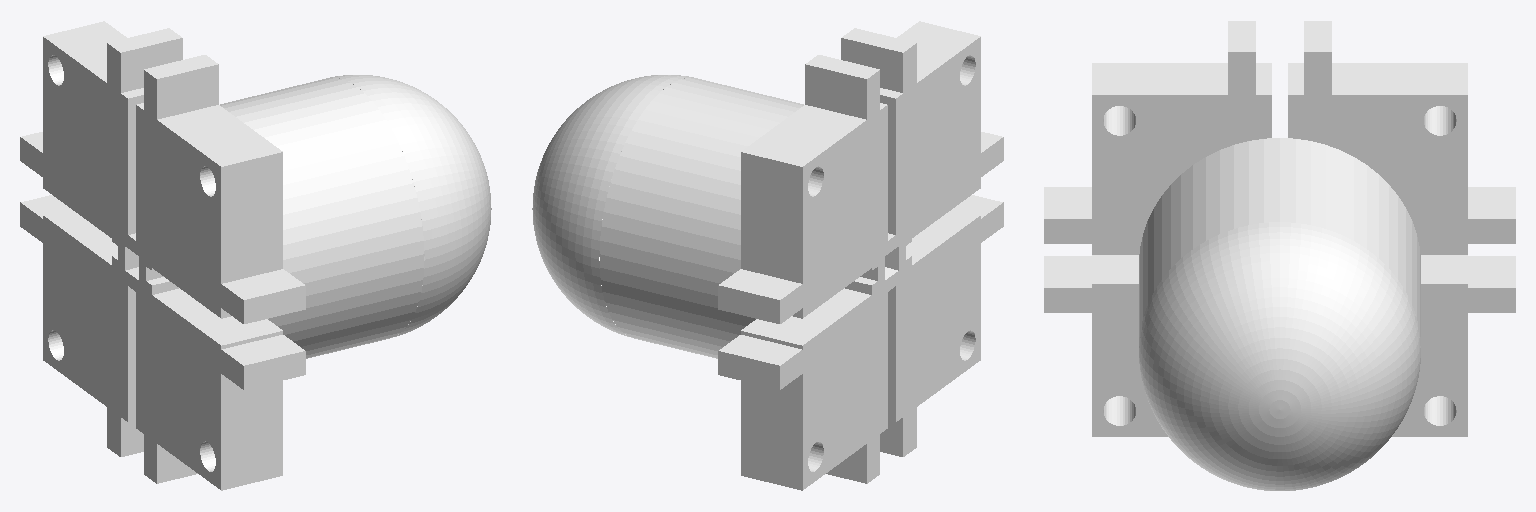
URDF robot description (omnitact):
<?xml version="1.0" ?>
<robot name="omnitact">
  <link concave="yes" name="baseLink">
    <inertial>
      <origin rpy="0 0 0" xyz="0 0 0"/>
       <mass value=".1"/>
       <inertia ixx="1" ixy="0" ixz="0" iyy="1" iyz="0" izz="1"/>
    </inertial>
    <visual>
      <origin rpy="0 0 0" xyz="0 0 0"/>
      <geometry>
				<mesh filename="omnitact_mod_pybullet.STL" scale="1 1 1"/>
      </geometry>
       <material name="white">
        <color rgba="1 1 1 1"/>
      </material>
    </visual>
    <collision concave="yes">
      <origin rpy="0 0 0" xyz="0 0 0"/>
     <geometry>
				<mesh filename="omnitact_mod_pybullet.STL" scale="1 1 1"/>
      </geometry>
    </collision>
  </link>
</robot>

--- Render facts (derived) ---
The picture shows the robot from 3 angles, left to right: view 1: azimuth 30°, elevation 25°; view 2: azimuth 150°, elevation 25°; view 3: azimuth 270°, elevation 25°; orthographic projection.
Robot: omnitact — 1 links, 0 joints (none); root link baseLink; default pose: every joint at zero.
Links seen in each view (by area): view 1: baseLink; view 2: baseLink; view 3: baseLink.
Boxes of the visible links, <box> form: baseLink: <box>20,21,491,490</box>; baseLink: <box>532,21,1003,490</box>; baseLink: <box>1044,21,1515,490</box>.
Size in the robot's own frame: 0.0442 by 0.05 by 0.05 metres.
Meshes: 1 distinct files referenced, 1 mesh visuals loaded (1 binary STL).